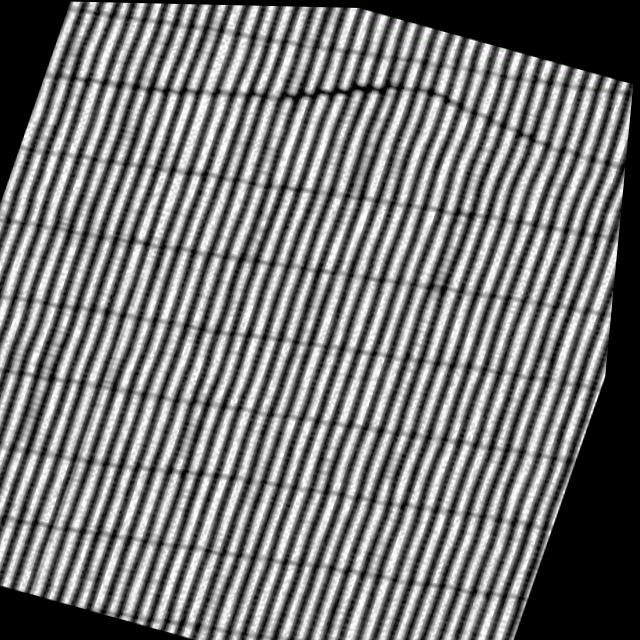Stitch: (154, 3, 622, 228)
